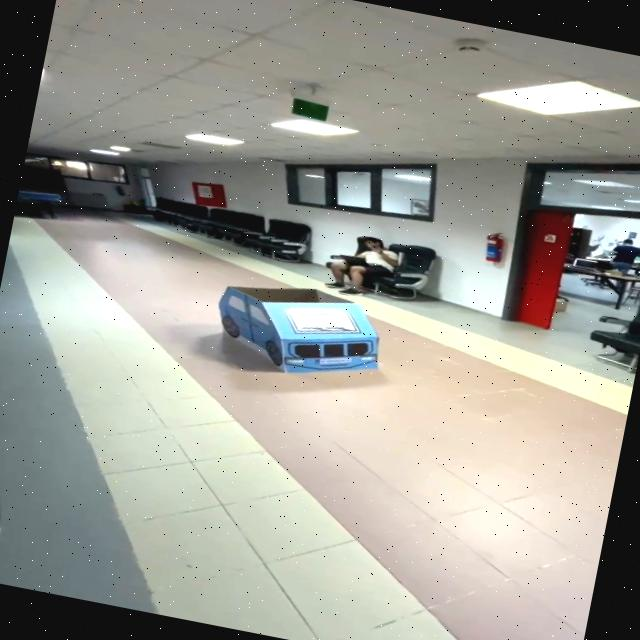blue_car: (175, 257, 415, 410)
